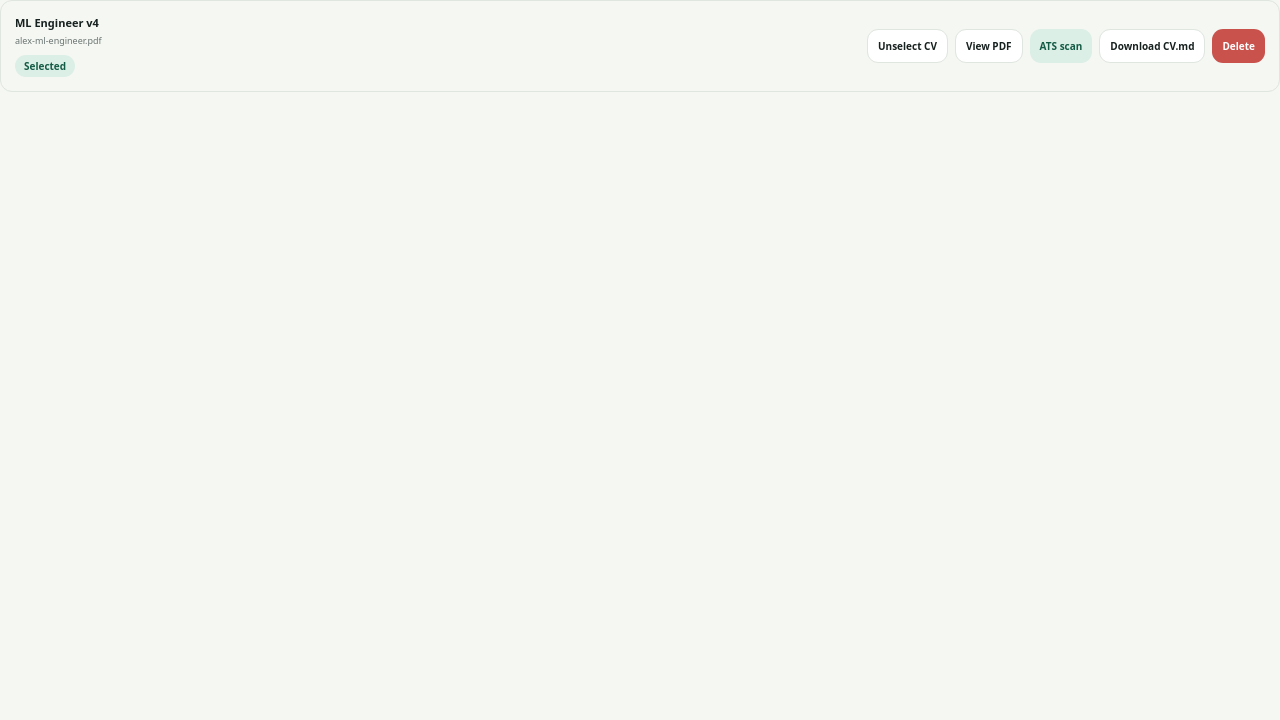
Test case: CvLibrary › opens an accessible ATS scan with the saved report
Click the button with aria-label "ATS scan for ML Engineer v4". click: (1061, 46)
box: [1030, 29, 1092, 63]
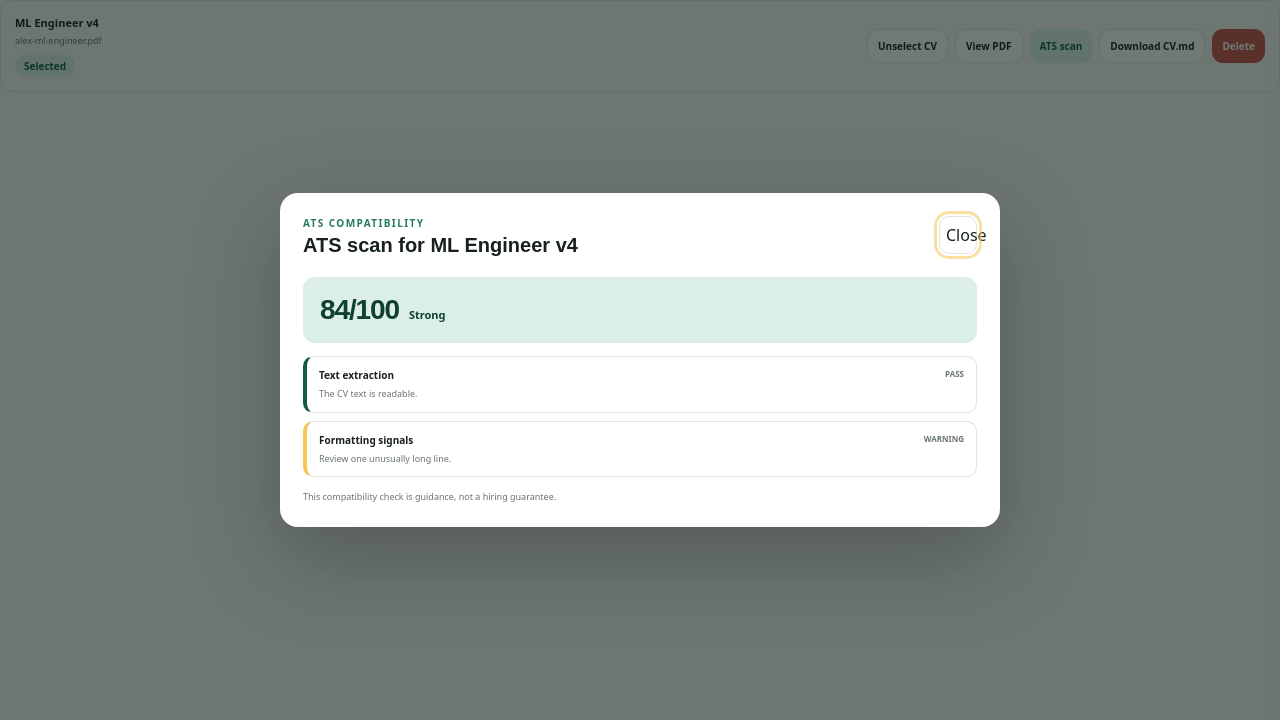
Check: the text "84/100" is shown, box [320, 294, 399, 326]
Check: the text "Strong" is shown, box [409, 307, 446, 322]
Check: the text "Text extraction" is shown, box [319, 368, 394, 382]
